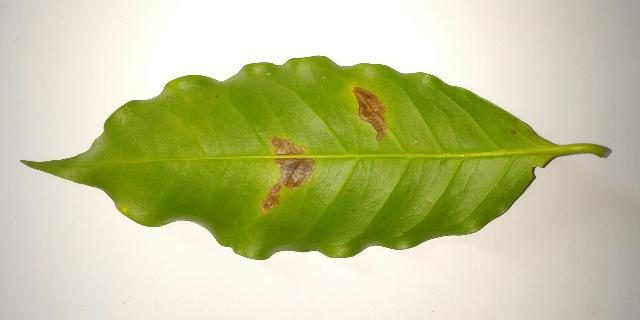cercospora: (261, 137, 316, 213), (352, 85, 387, 141)
